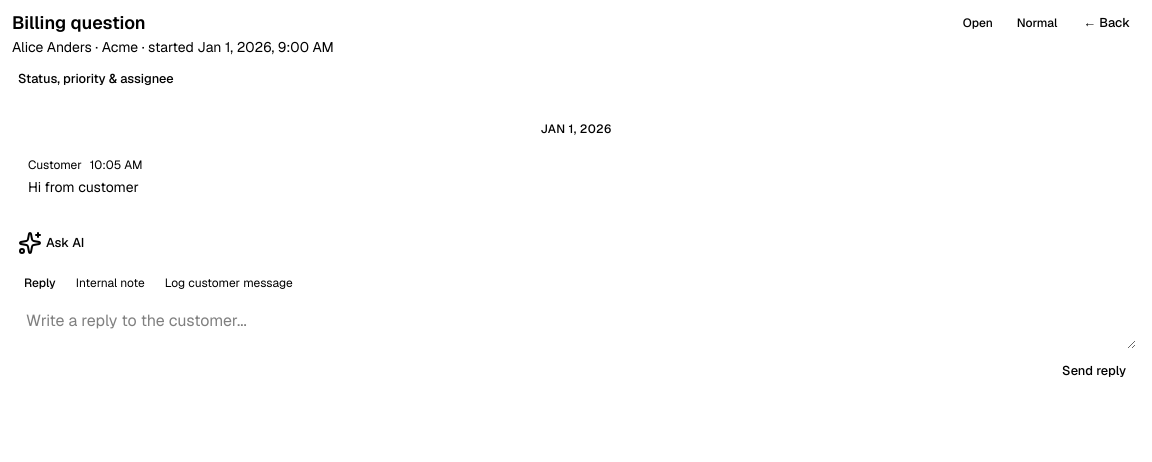
ConversationPane › shows the sent message exactly once while the refetch is still in flight, and after it
Type "Exactly once" into the text box.
click(576, 325); type("Exactly once")  # box [16,301,1136,349]
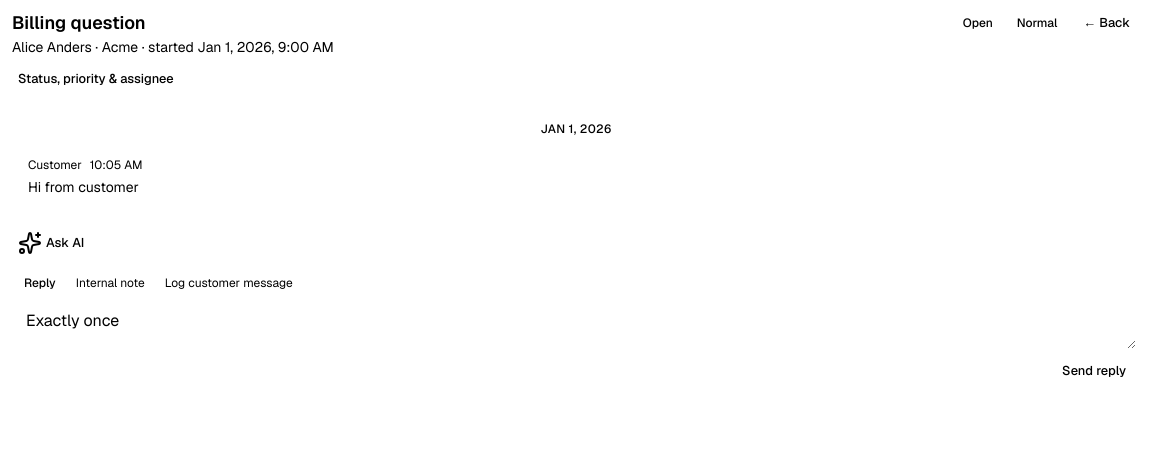
Click the button "Send reply".
click(1094, 371)  # box [1052,357,1136,385]
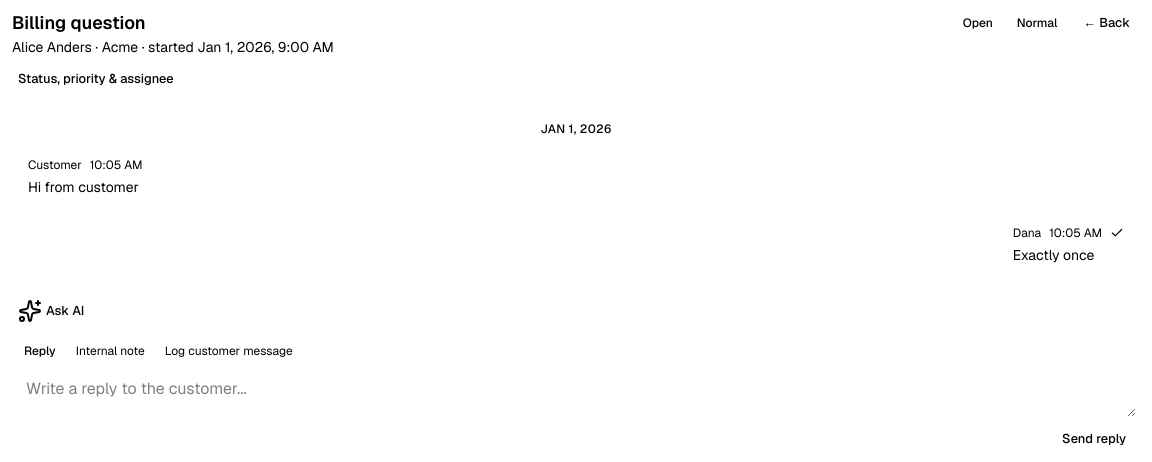
Expected: the text "Exactly once" is shown once, [1013,246,1094,264]
Expected: the number of pictures named "Sent" is 1, [1110,226,1124,240]
